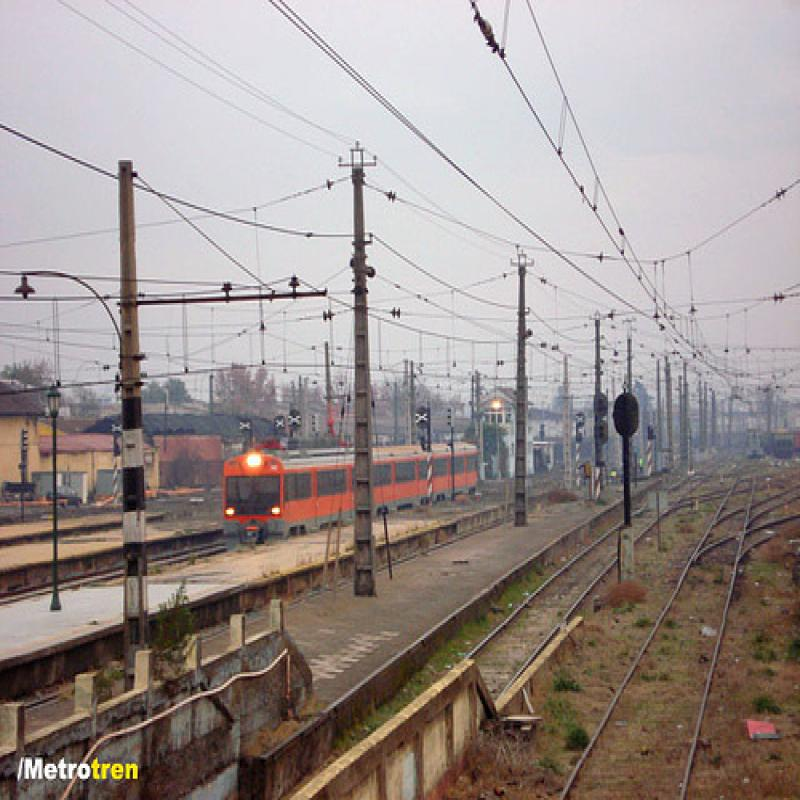train: (217, 438, 478, 543)
